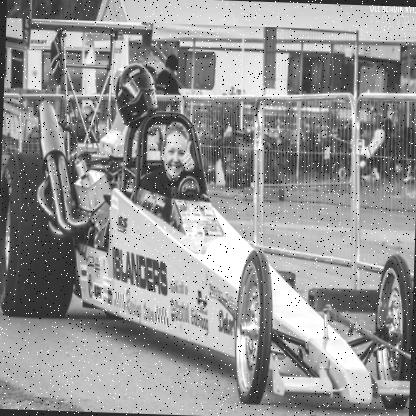Car: (0, 18, 415, 412)
